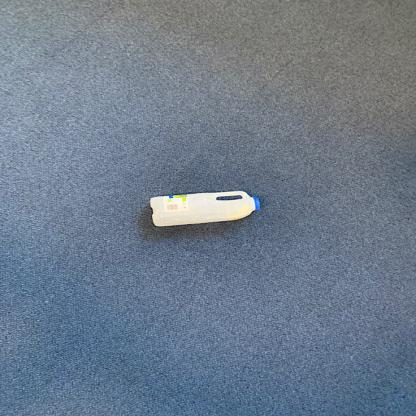trash: (150, 188, 264, 230)
